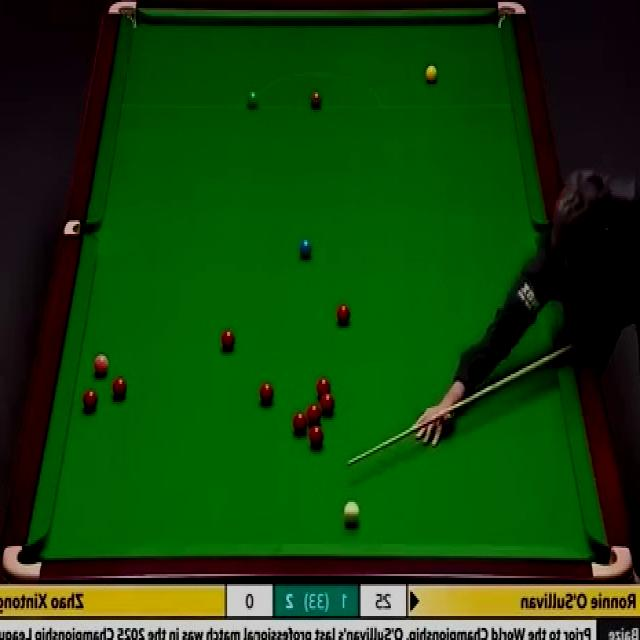blue-ball: (298, 237, 313, 258)
brown-ball: (310, 90, 323, 110)
green-ball: (244, 91, 260, 112)
pink-ball: (93, 352, 109, 378)
red-ball: (258, 381, 275, 405), (110, 376, 126, 401), (292, 412, 307, 437), (82, 389, 97, 412), (336, 304, 351, 326), (310, 426, 323, 449), (306, 406, 322, 424), (222, 330, 235, 352), (316, 377, 332, 394), (320, 392, 334, 408)
white-ball: (344, 500, 359, 524)
yellow-ball: (424, 65, 437, 86)
